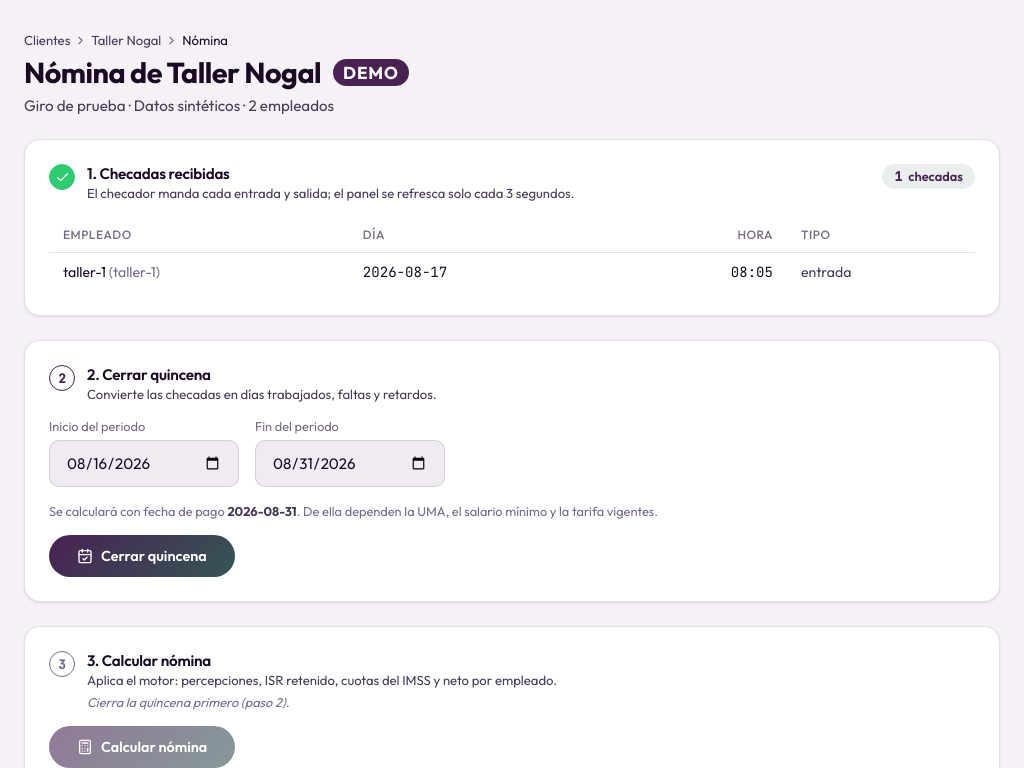
Test: panel sin checadas › no avisa cuando todos trabajaron
The width and height of the screenshot is (1024, 768).
Expected: the date field showing "2026-08-16" is shown, 49,440 -> 239,487
What coordinates should you click on to do the following:
click the button "Cerrar quincena"
I would click on:
 (142, 556)
Its box is 49,535 -> 235,577.
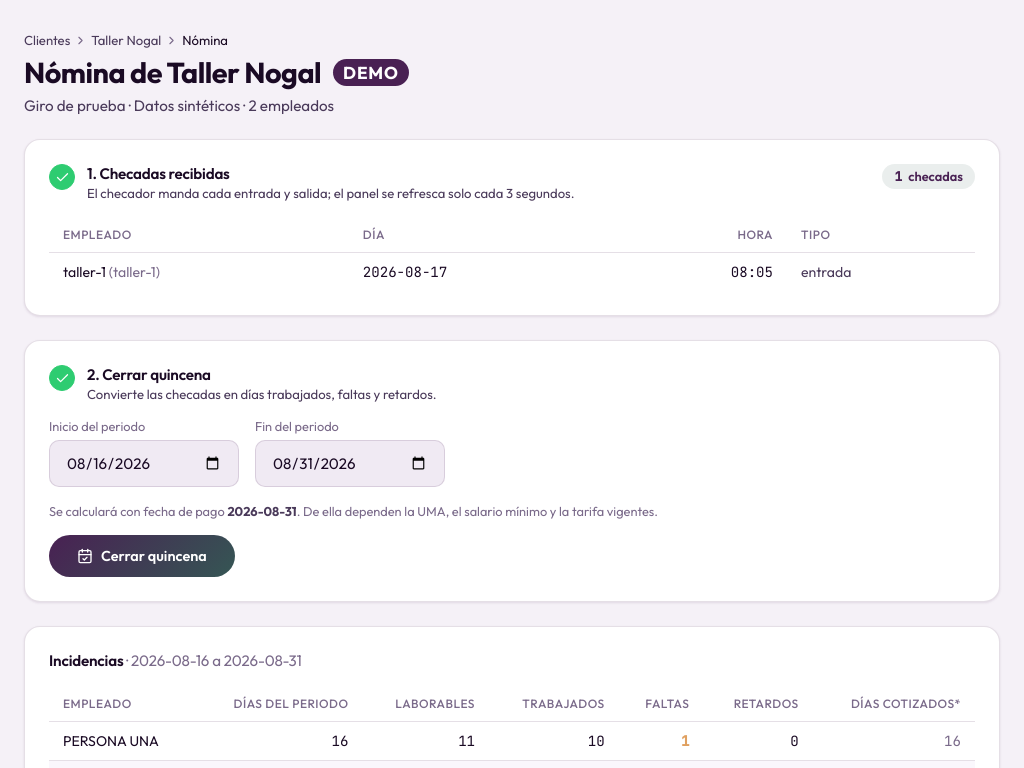
Now the text "PERSONA UNA" is shown, box 49,722 -> 194,760
